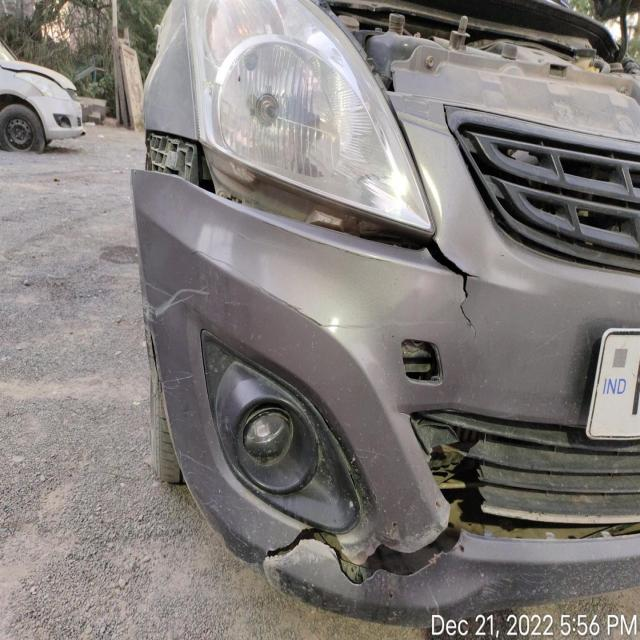damage: (147, 131, 436, 259), (264, 523, 461, 590), (419, 415, 488, 544), (436, 249, 487, 332)
